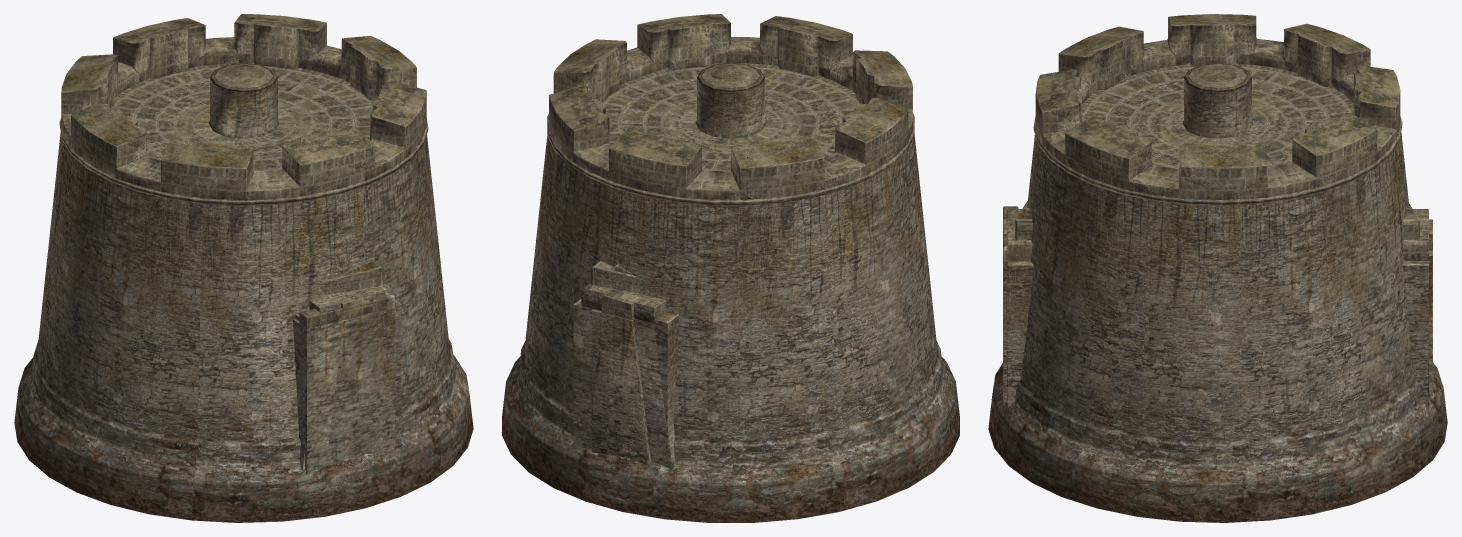
Rendered from fort_kit.glb.
The picture shows the model from 3 angles, left to right: view 1: azimuth 30°, elevation 25°; view 2: azimuth 150°, elevation 25°; view 3: azimuth 270°, elevation 25°; orthographic projection.
Parts seen in each view (by area): view 1: tower_round, wall_stairs_straight_01, wall_thin_straight_01, wall_thick_straight_02; view 2: tower_round, wall_thin_straight_02, wall_thick_straight_01, wall_thick_straight_02, wall_walkway_straight_01; view 3: tower_round, wall_thick_straight_01, wall_stairs_straight_01, wall_thick_straight_02, wall_thin_straight_02.
Boxes of the visible parts, left/top/right/bottom form: tower_round: left=14, top=14, right=473, bottom=522; wall_stairs_straight_01: left=293, top=294, right=395, bottom=474; wall_thin_straight_01: left=326, top=264, right=382, bottom=464; wall_thick_straight_02: left=299, top=261, right=400, bottom=470; tower_round: left=502, top=14, right=959, bottom=522; wall_thin_straight_02: left=591, top=264, right=649, bottom=465; wall_thick_straight_01: left=573, top=261, right=670, bottom=469; wall_thick_straight_02: left=575, top=261, right=674, bottom=470; wall_walkway_straight_01: left=589, top=307, right=679, bottom=433; tower_round: left=988, top=14, right=1447, bottom=522; wall_thick_straight_01: left=1007, top=219, right=1428, bottom=408; wall_stairs_straight_01: left=1003, top=206, right=1031, bottom=405; wall_thick_straight_02: left=1007, top=200, right=1428, bottom=264; wall_thin_straight_02: left=1003, top=207, right=1432, bottom=396.
Size of the model in its own units: 15.84 by 13.5 by 15.84.
3 materials, 3 textured.
